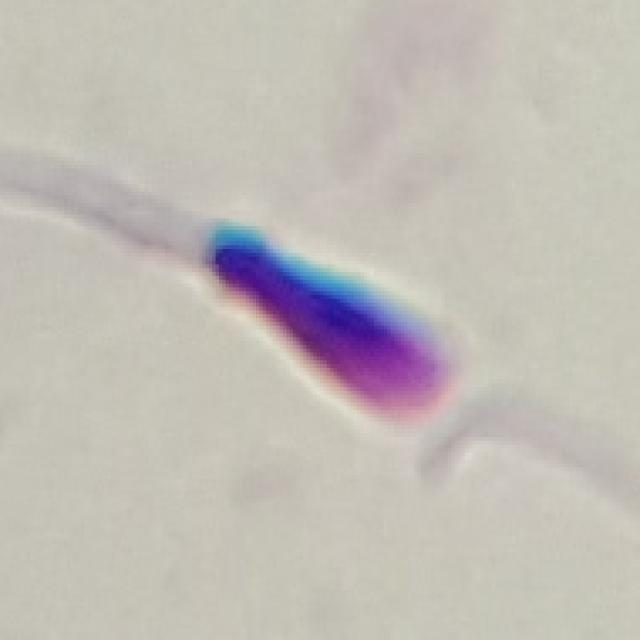abnormal sperm: (45, 135, 467, 440)
